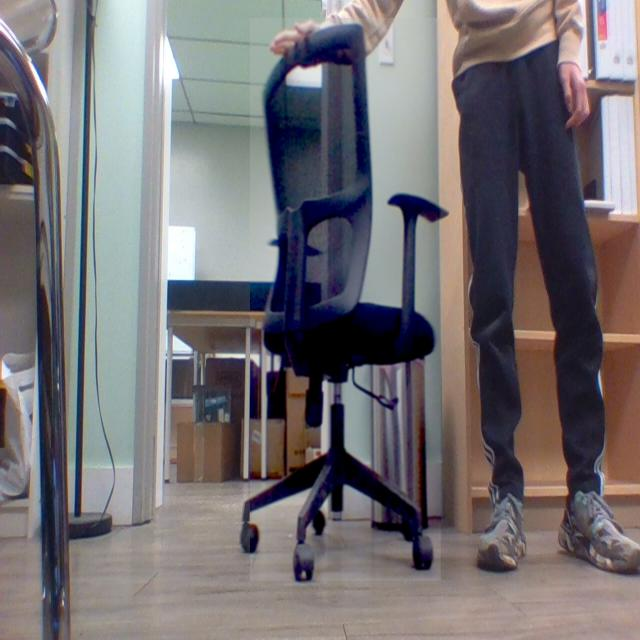black-chair: (250, 18, 442, 582)
